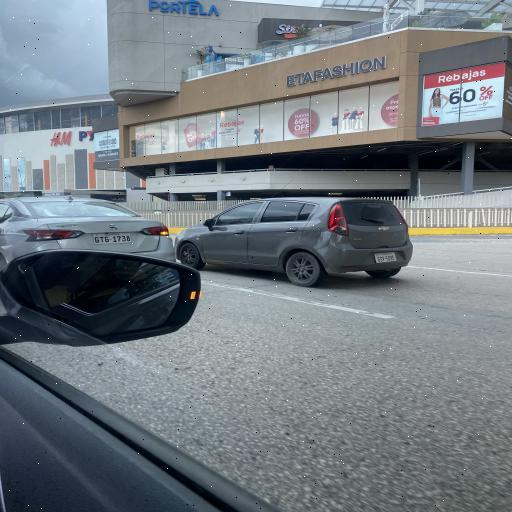license_plate: (94, 236, 100, 244), (112, 235, 117, 243), (104, 236, 110, 242), (99, 236, 104, 243), (126, 234, 130, 242), (117, 235, 121, 242), (122, 236, 126, 242)
